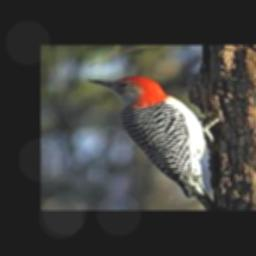Woodpecker: (87, 75, 218, 210)
